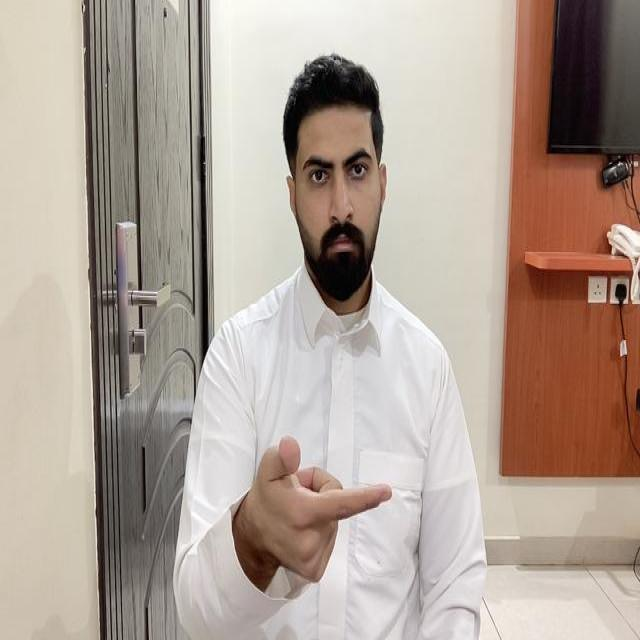dispensing: (235, 435, 392, 584)
